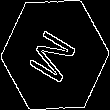M_SE: (26, 23, 84, 87)
